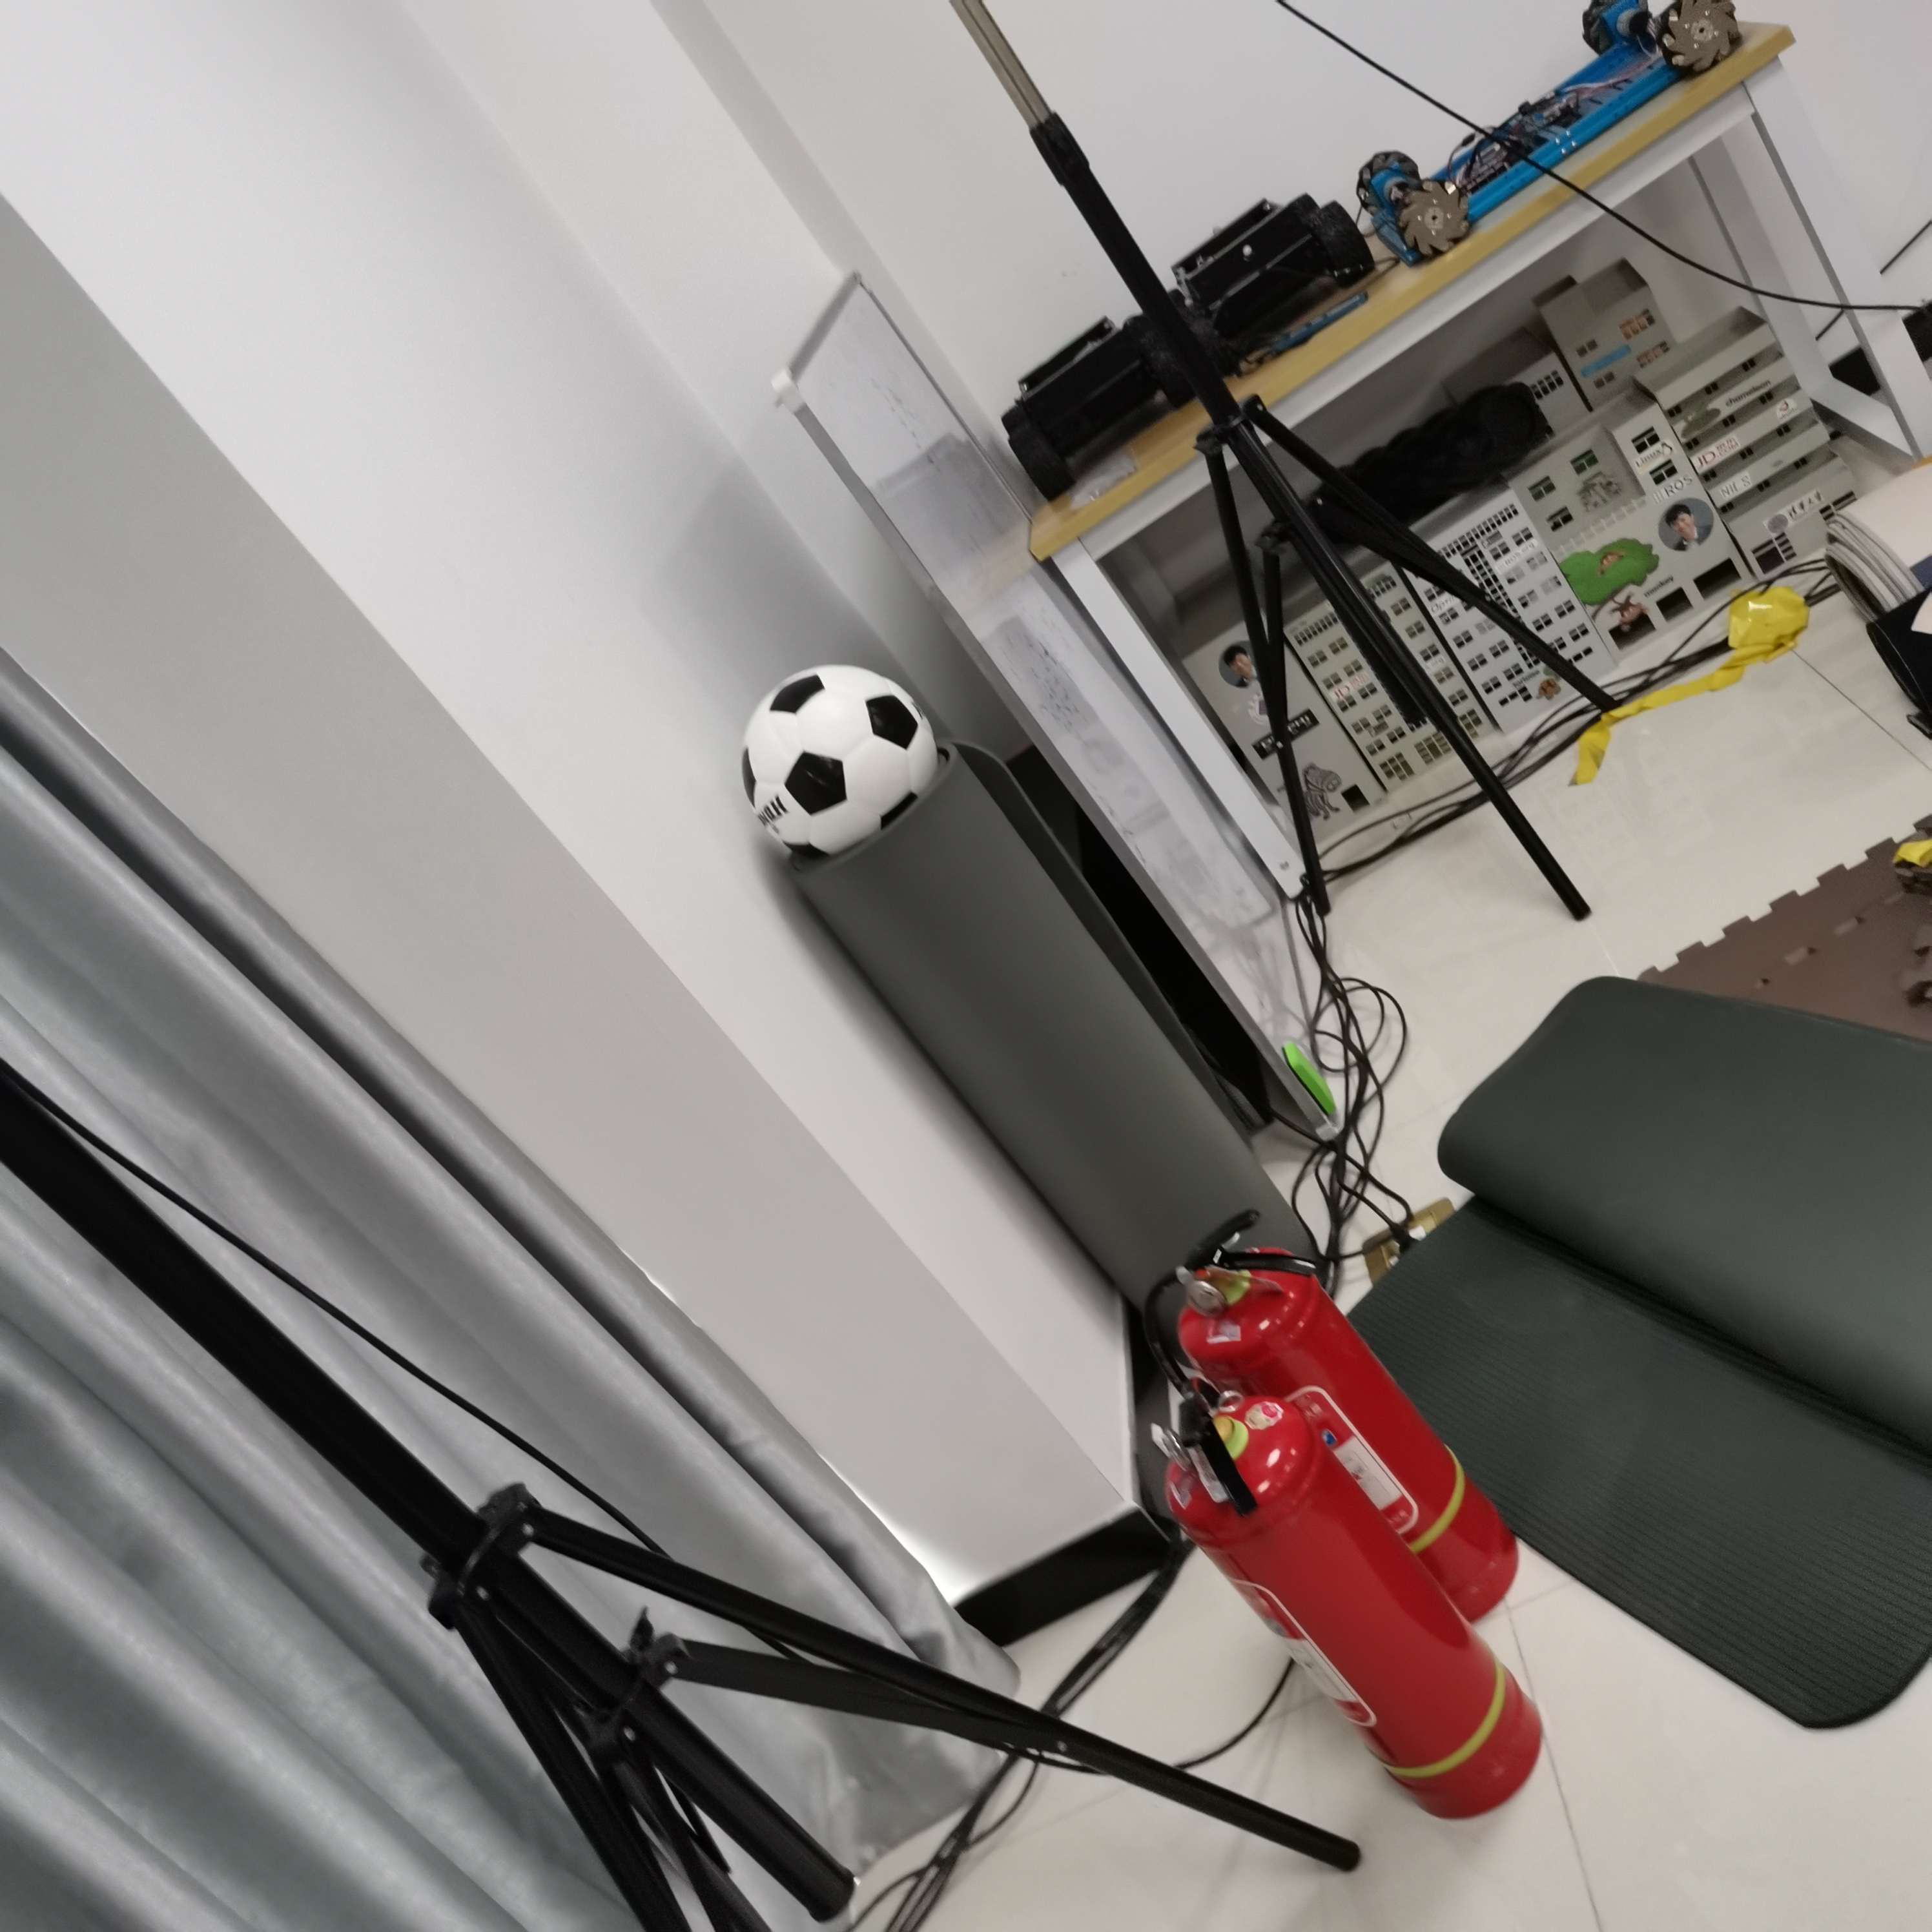football: (740, 665, 938, 853)
